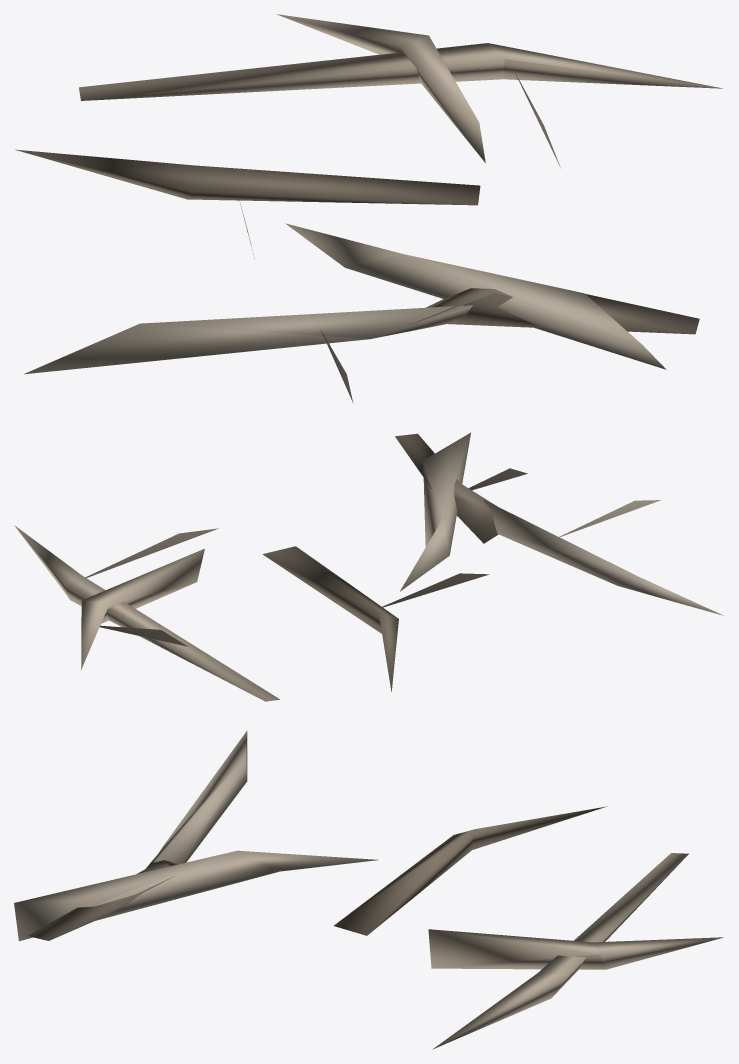
The model's file is shore_gc_twigs_b_lod2.glb.
The picture shows the model from 3 angles, top to bottom: view 1: azimuth 30°, elevation 25°; view 2: azimuth 150°, elevation 25°; view 3: azimuth 270°, elevation 25°; orthographic projection. The views are drawn at different scales.
Parts seen in each view (by area): view 1: shore_gc_twigs_b.001; view 2: shore_gc_twigs_b.001; view 3: shore_gc_twigs_b.001.
Part boxes in pixels (x1,y1,x2,y2): shore_gc_twigs_b.001: [15, 14, 722, 402]; shore_gc_twigs_b.001: [14, 432, 723, 701]; shore_gc_twigs_b.001: [14, 730, 723, 1049].
Size of the model in its own units: 3.9 by 0.2236 by 3.63.
